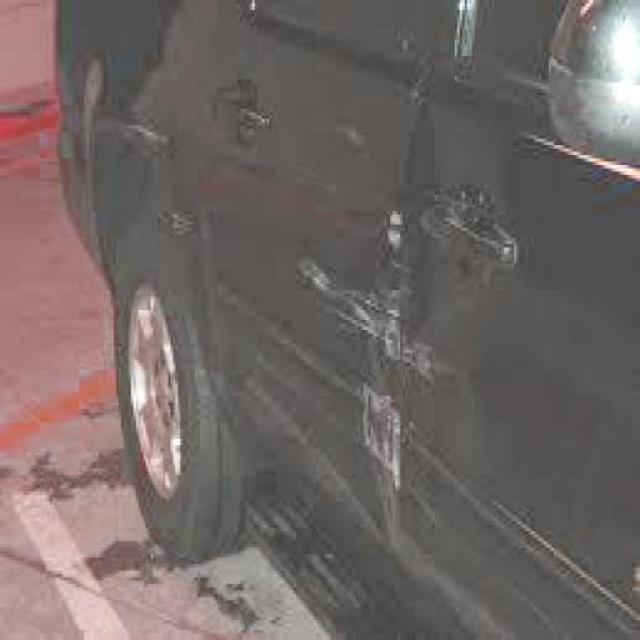Car-Damage: (299, 195, 441, 393), (347, 381, 410, 545)
